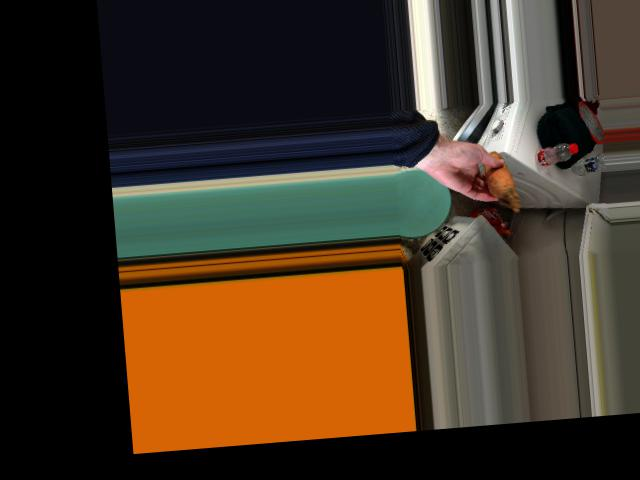sweet_potato: (485, 156, 515, 197)
